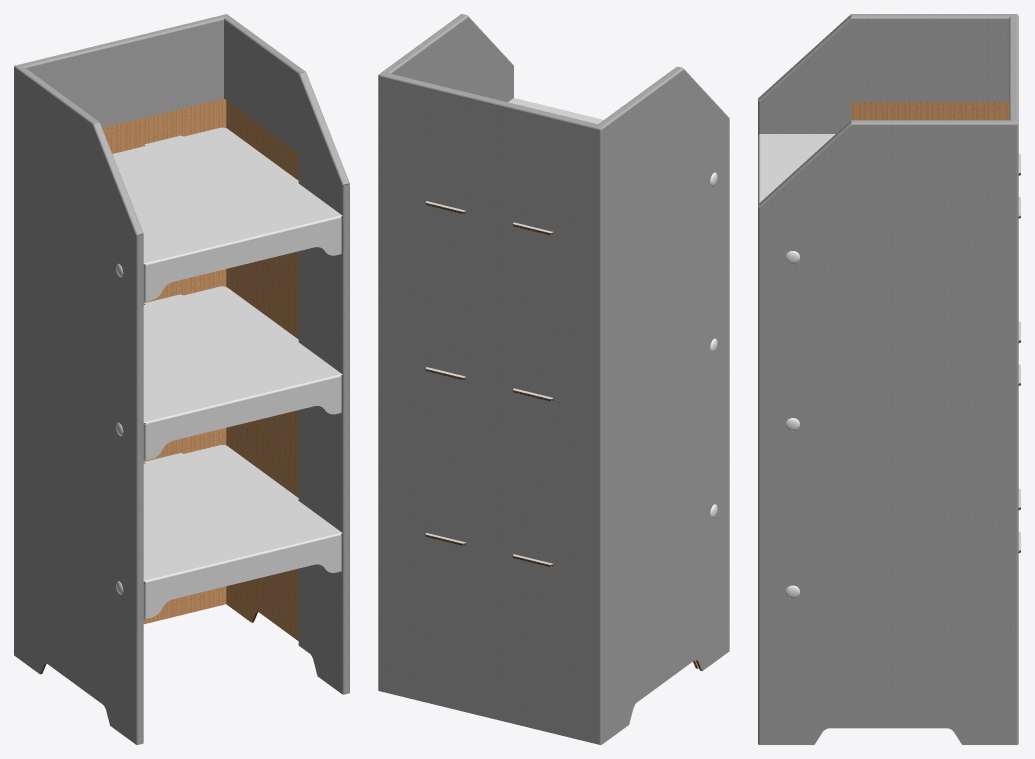
File: PANETONE.glb
3 views of the same model, side by side, from view 1: azimuth 30°, elevation 25°; view 2: azimuth 150°, elevation 25°; view 3: azimuth 270°, elevation 25° (orthographic). The views are drawn at different scales.
Parts seen in each view (by area): view 1: TQ_ARD-node, TQ_ARD-node.001, TQ_ARD-node.002, TQ_ARD-node.003; view 2: TQ_ARD-node, TQ_ARD-node.001; view 3: TQ_ARD-node, TQ_ARD-node.001.
Part boxes in pixels (x1,y1,x2,y2): TQ_ARD-node: (14,14,349,744); TQ_ARD-node.001: (112,127,342,301); TQ_ARD-node.002: (143,286,342,460); TQ_ARD-node.003: (143,445,342,618); TQ_ARD-node: (378,14,729,744); TQ_ARD-node.001: (425,98,603,235); TQ_ARD-node: (758,14,1018,744); TQ_ARD-node.001: (758,134,1020,218).
Bounding box in the file's own units: 0.4321 × 1.11 × 0.427.
7 materials, 5 textured.
